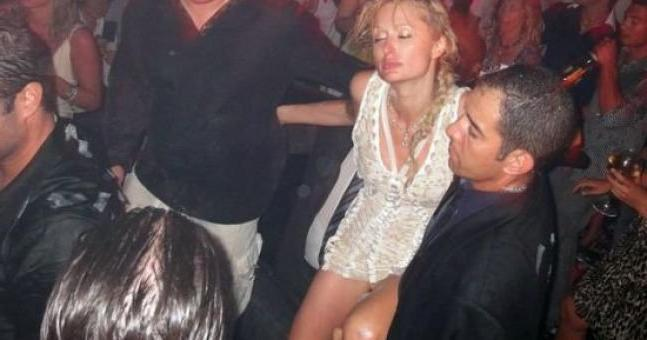Drunk: (371, 7, 430, 80)
